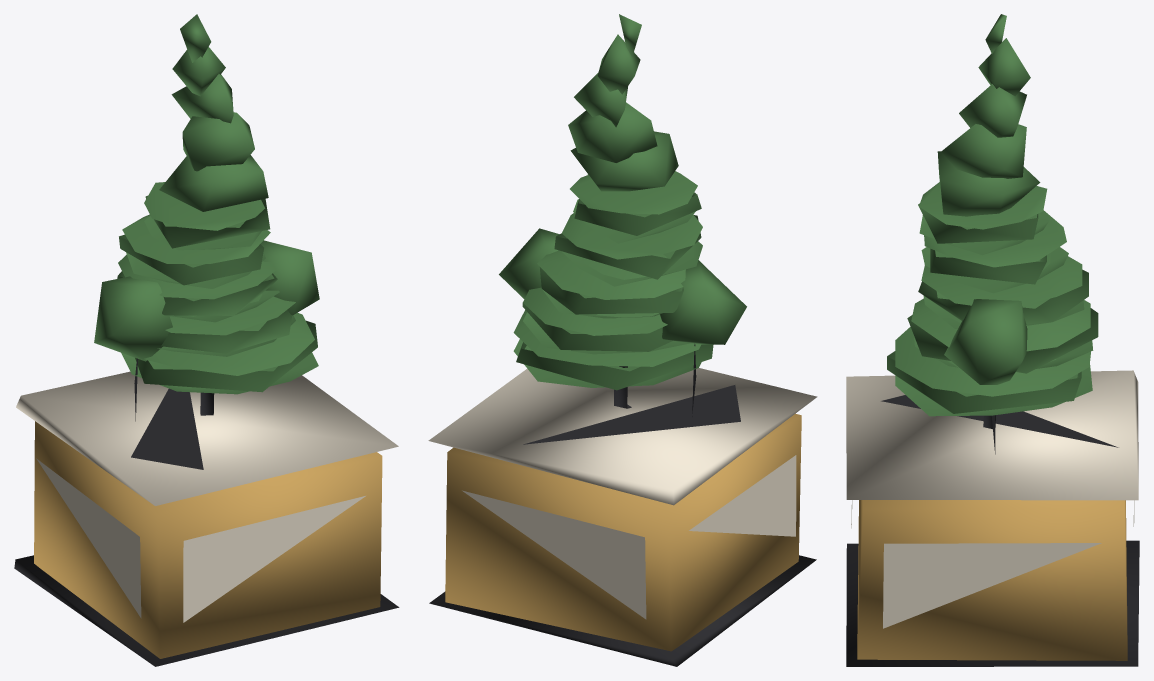
File: lod_topiary_planter.glb
3 views of the same model, side by side, from view 1: azimuth 30°, elevation 25°; view 2: azimuth 150°, elevation 25°; view 3: azimuth 270°, elevation 25° (orthographic). The views are drawn at different scales.
Parts seen in each view (by area): view 1: topiary_planter; view 2: topiary_planter; view 3: topiary_planter.
Part boxes in pixels (<box>): topiary_planter: <box>14,14,399,666</box>; topiary_planter: <box>428,14,817,666</box>; topiary_planter: <box>846,14,1139,666</box>.
Size of the model in its own units: 0.9566 by 2.14 by 0.9566.
